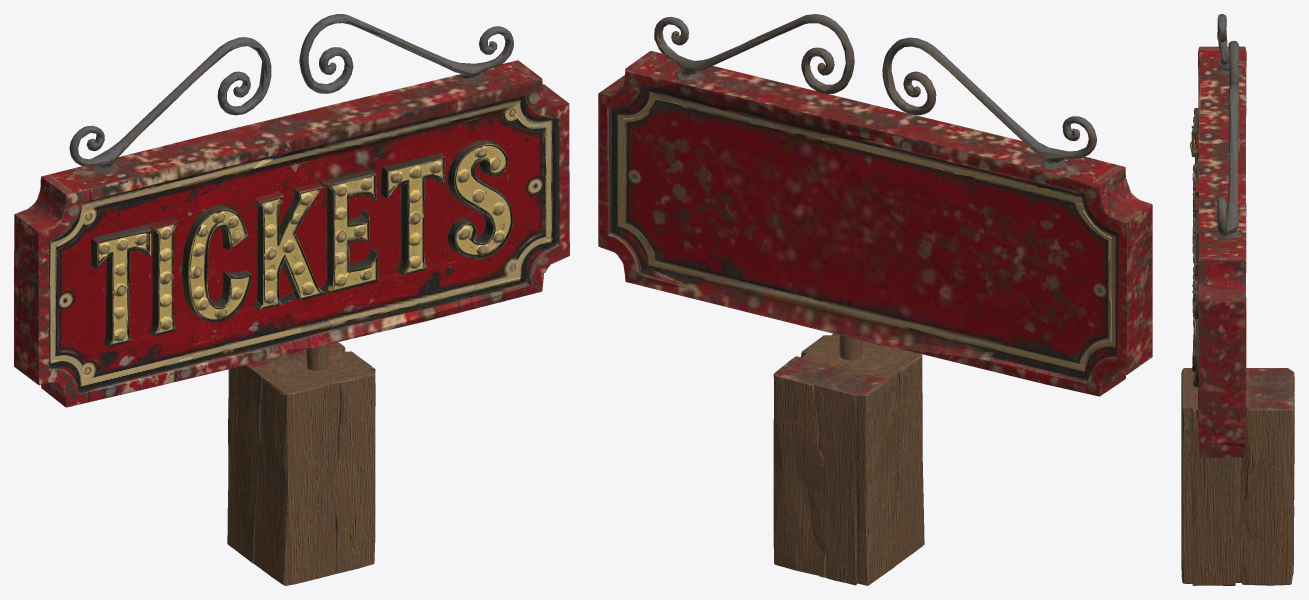
File: bilheteria_placa.glb
3 views of the same model, side by side, from view 1: azimuth 30°, elevation 25°; view 2: azimuth 150°, elevation 25°; view 3: azimuth 270°, elevation 25° (orthographic). The views are drawn at different scales.
Bounding box in the file's own units: 1.9 × 1.82 × 0.382.
Materials: 1 (1 with a texture image).
